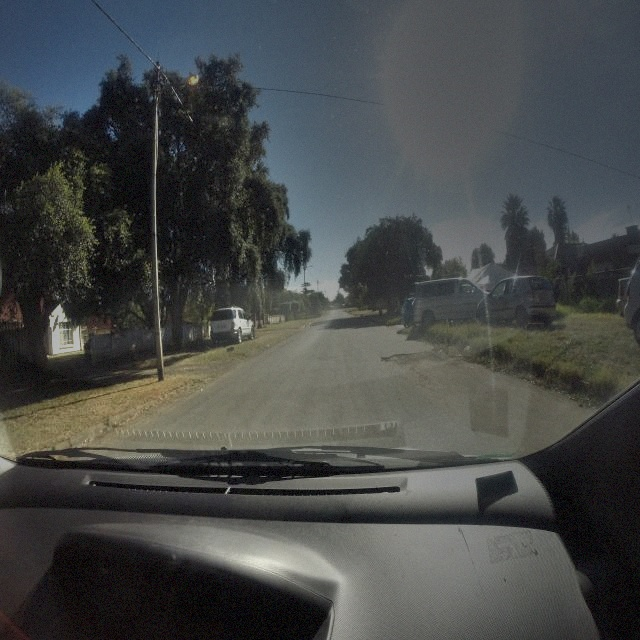pothole: (382, 349, 414, 369)
